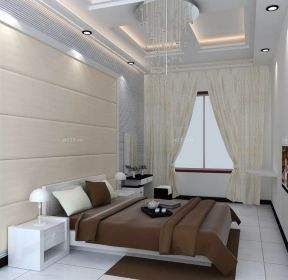床: (52, 194, 235, 261)
枕头: (56, 180, 110, 218)
灯: (133, 2, 198, 59), (25, 186, 49, 221), (264, 5, 280, 13), (81, 30, 93, 37), (259, 47, 270, 54), (126, 60, 135, 66)
